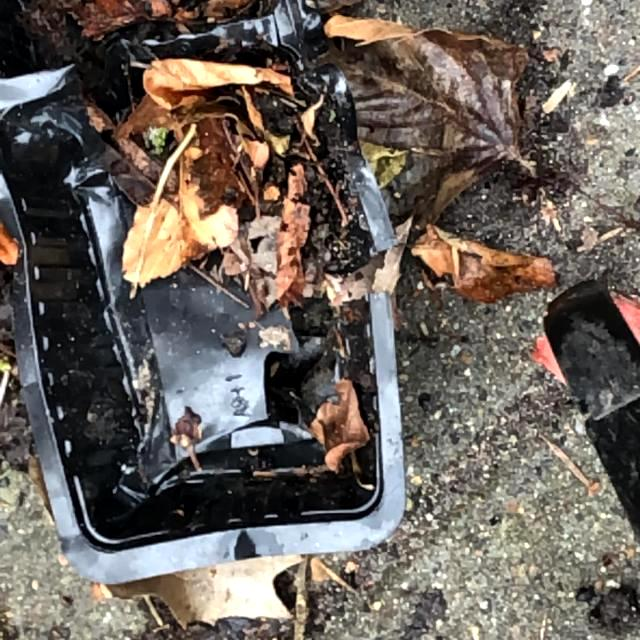Plastic: (0, 0, 412, 589)
